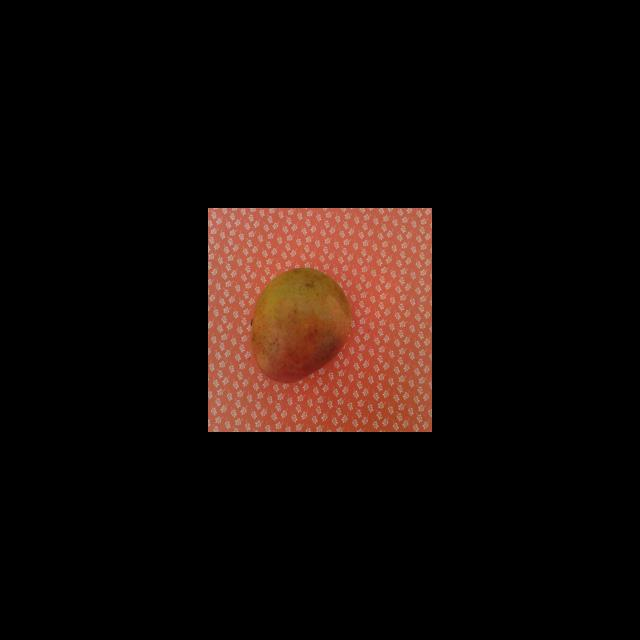Mango: (250, 267, 353, 383)
